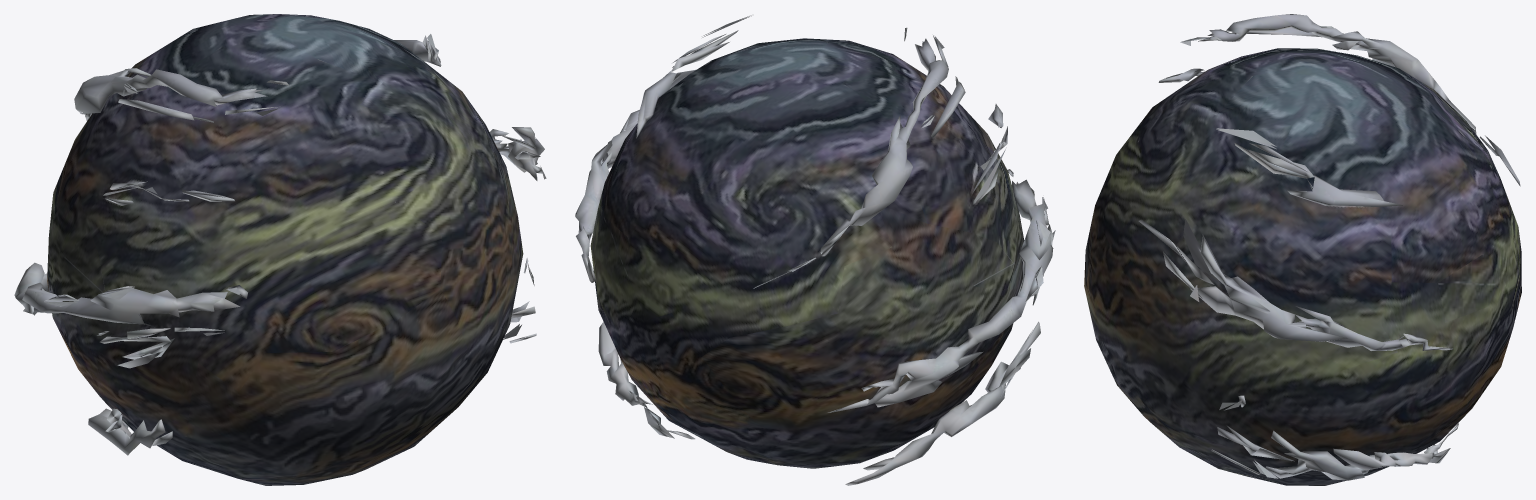
File: planet_stormbound_orb.glb
The picture shows the model from 3 angles, left to right: view 1: azimuth 30°, elevation 25°; view 2: azimuth 150°, elevation 25°; view 3: azimuth 270°, elevation 25°; orthographic projection. The views are drawn at different scales.
Bounding box in the file's own units: 0.9536 × 0.8301 × 0.8174.
Materials: 1 (1 with a texture image).
